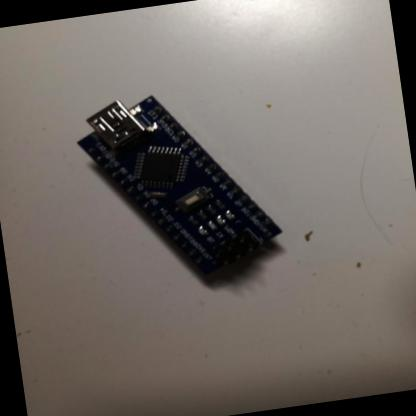Arduino_Nano: (70, 72, 298, 317)
